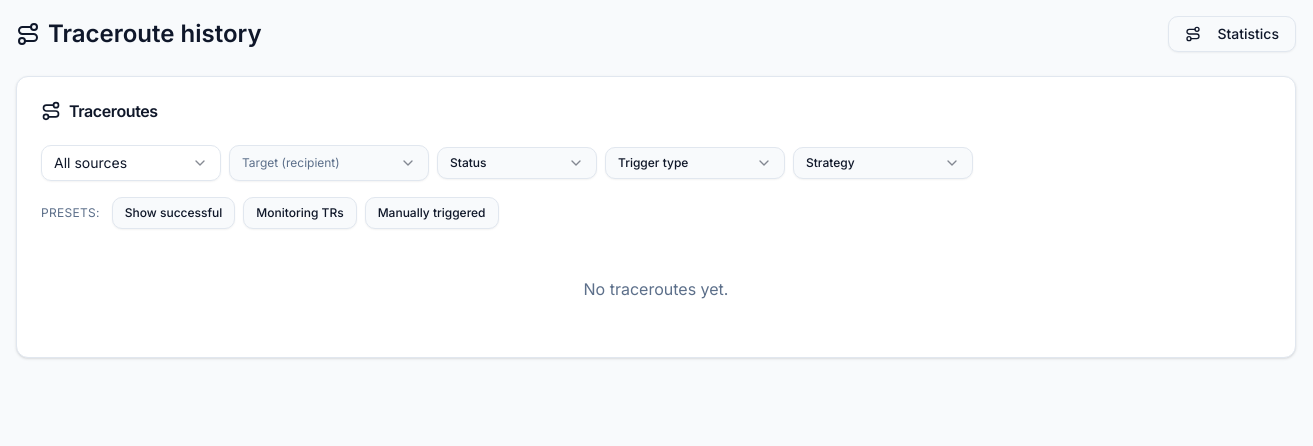
Test: TracerouteHistory › opens the searchable target filter and filters options by query
The image size is (1313, 446).
Step 1. Click the button "Target (recipient)" → (329, 163), box [229, 145, 429, 181]
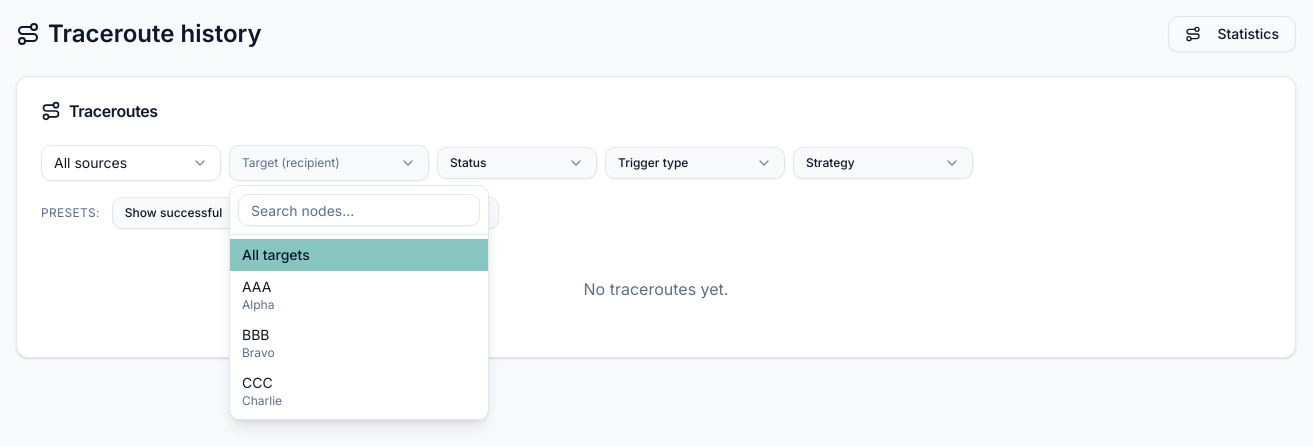
Expected: the text "AAA" is shown, [242, 278, 271, 295]
Expected: the text "BBB" is shown, [242, 326, 270, 343]
Expected: the text "CCC" is shown, [242, 374, 273, 391]
Step 2. Type "brav" into the field with placeholder "Search nodes..." → (359, 210), box [238, 194, 480, 226]
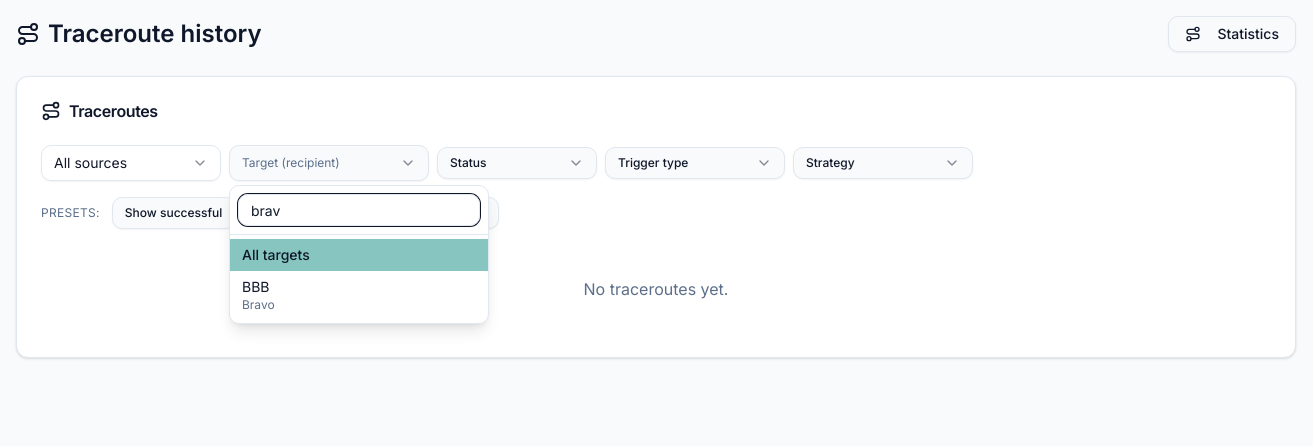
Expected: the text "BBB" is shown, [242, 278, 270, 295]
Expected: the button "AAA" is gone
Expected: the button "CCC" is gone
